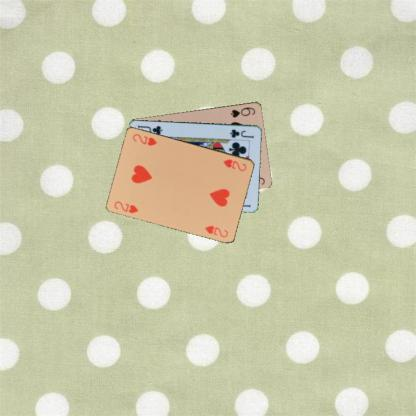2h: (111, 198, 140, 214), (221, 156, 248, 172)
6s: (228, 104, 257, 118)
Jc: (228, 127, 255, 139)
